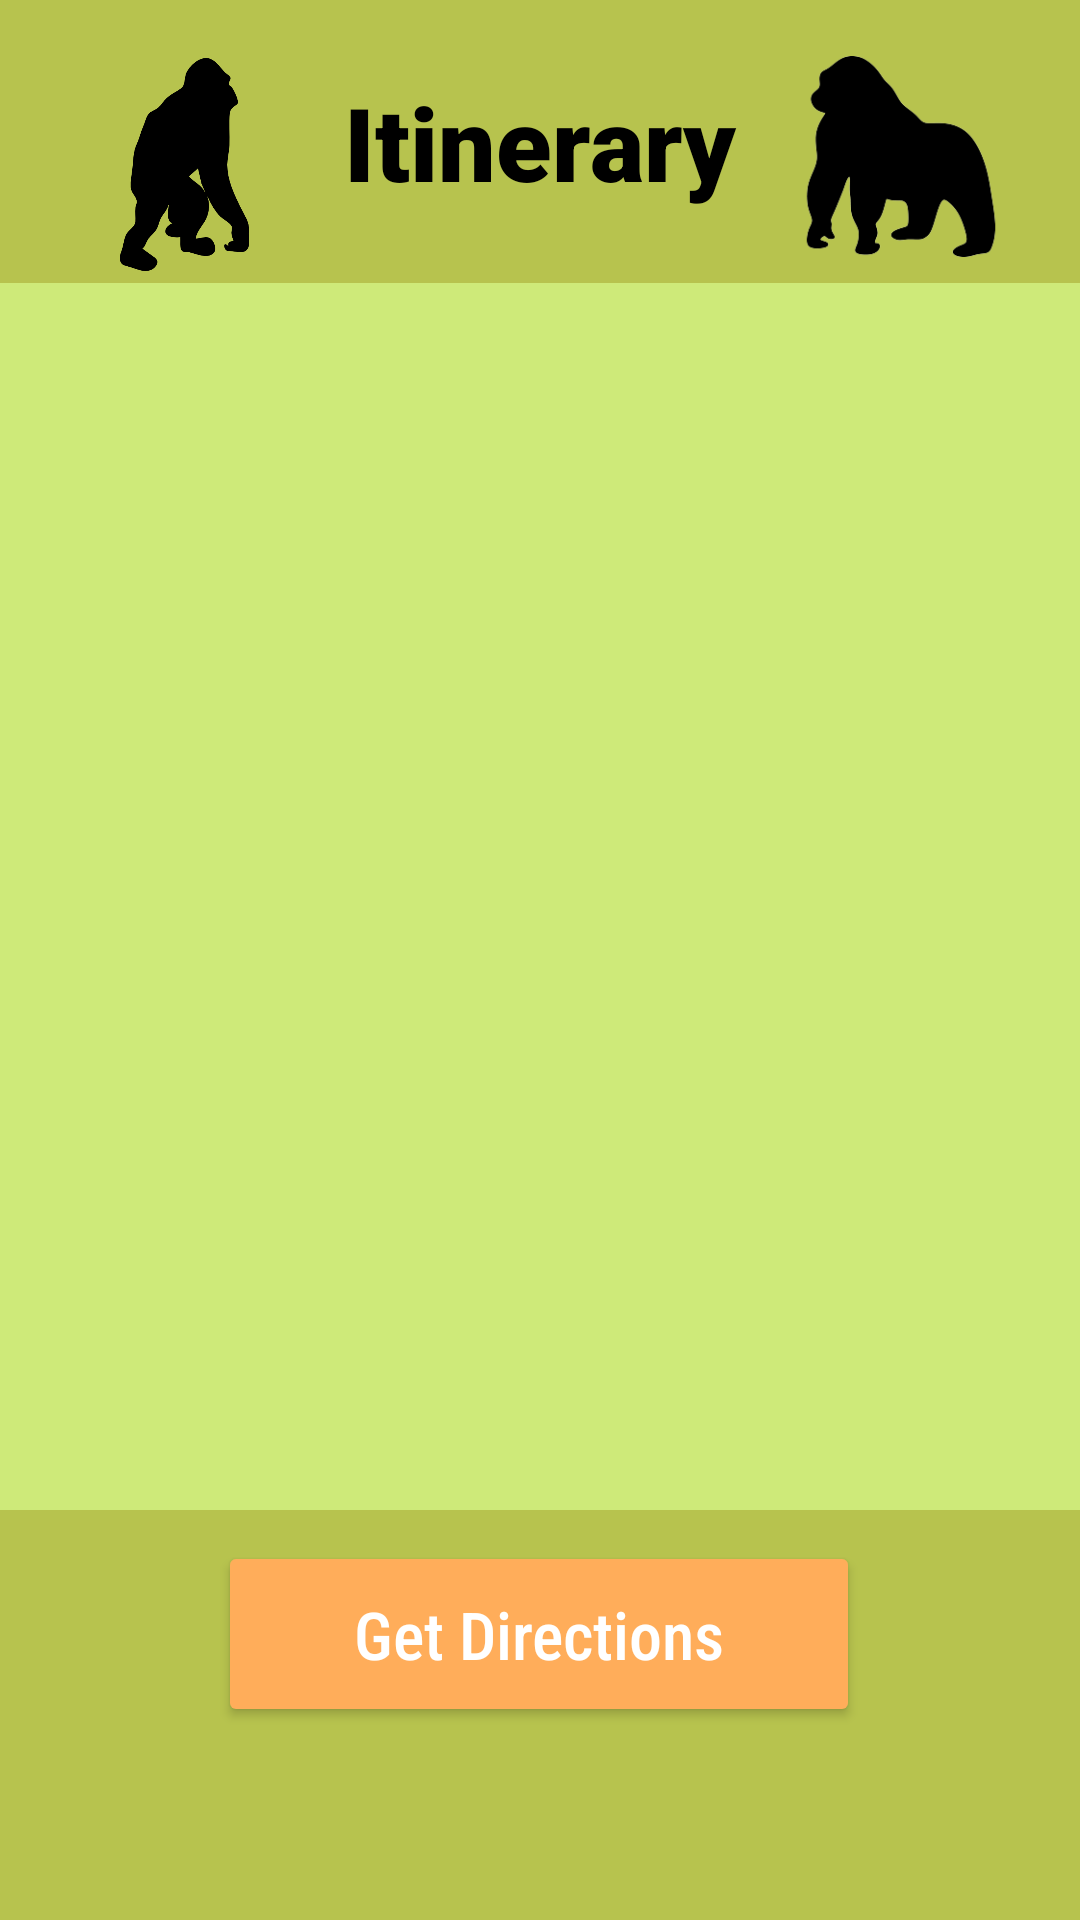

Screen size 1080x1920. Icon name, then its center in pixels as [x,y]:
gorillas: [901,156]
monke: [184,164]
